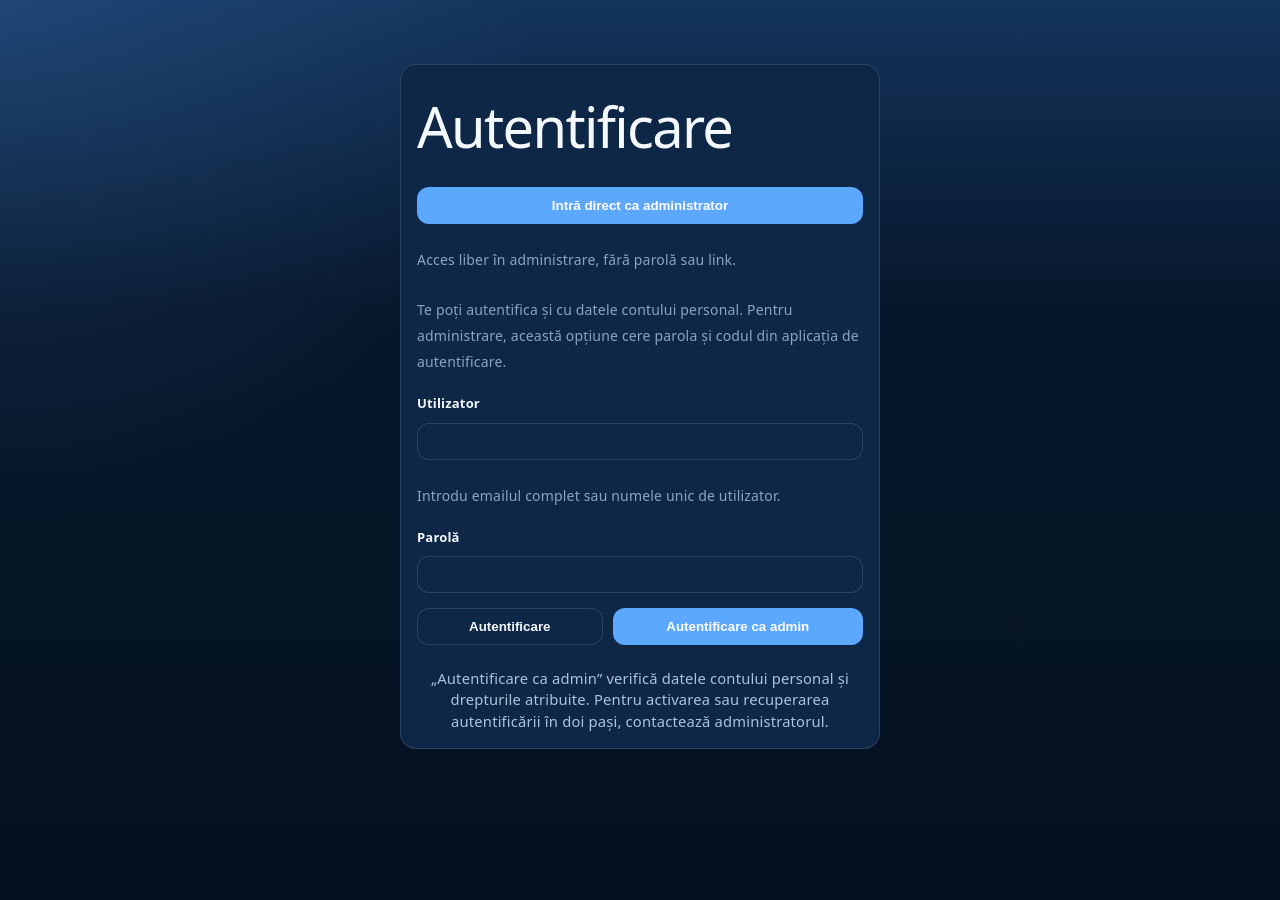
Test: SigninPage › does not submit a shared account when admin is clicked without credentials
The image size is (1280, 900).
Click the button "Autentificare ca admin": [738, 626] box [612,608,863,645]
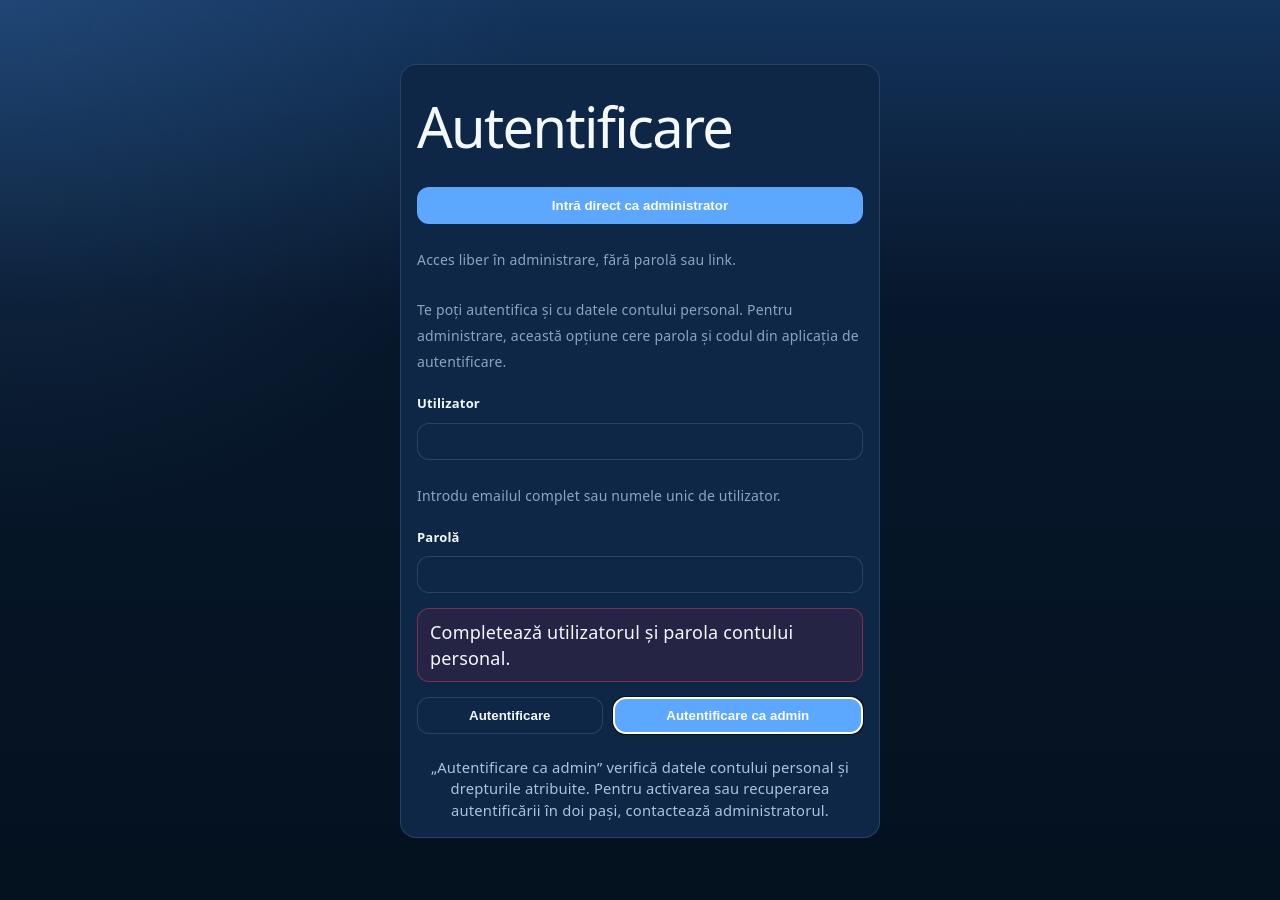
Expected: the message reads "Completează utilizatorul și parola contului personal.", [430,620,793,670]
